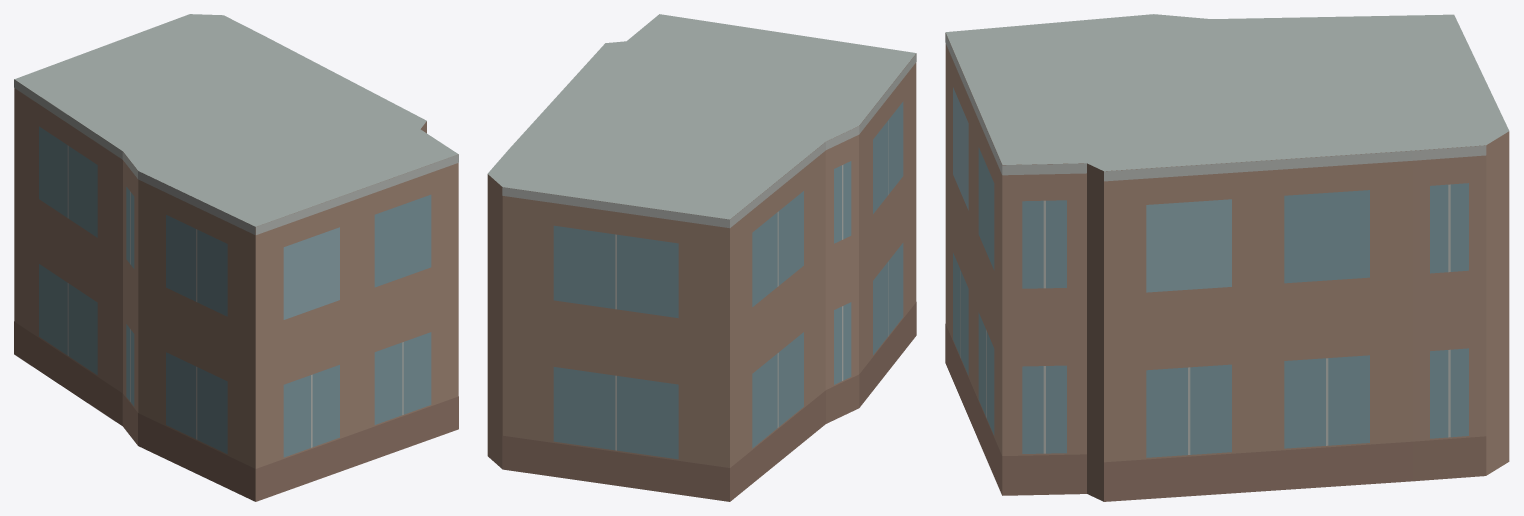
File: survey-upis-32728992.glb
3 renders of one model, left to right at view 1: azimuth 30°, elevation 25°; view 2: azimuth 150°, elevation 25°; view 3: azimuth 270°, elevation 25°, orthographic. The views are drawn at different scales.
Parts seen in each view (by area): view 1: survey-upis-32728992.tmp; view 2: survey-upis-32728992.tmp; view 3: survey-upis-32728992.tmp.
Part boxes in pixels (<box>): survey-upis-32728992.tmp: <box>14,14,458,501</box>; survey-upis-32728992.tmp: <box>487,14,916,501</box>; survey-upis-32728992.tmp: <box>945,14,1509,501</box>.
Bounding box in the file's own units: 8.07 × 7.9 × 12.23.
